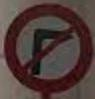Cam re: (7, 5, 90, 92)
